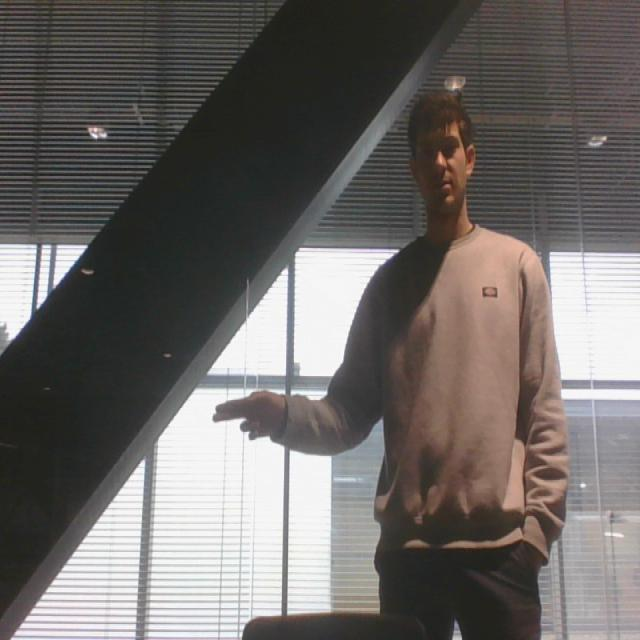left: (206, 381, 300, 456)
